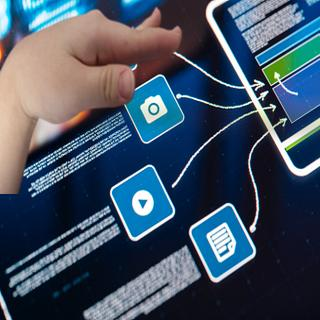Wait: (4, 5, 185, 130)
